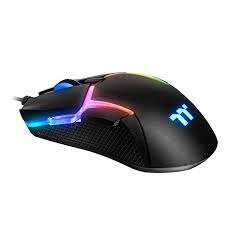mouse: (9, 67, 220, 175)
